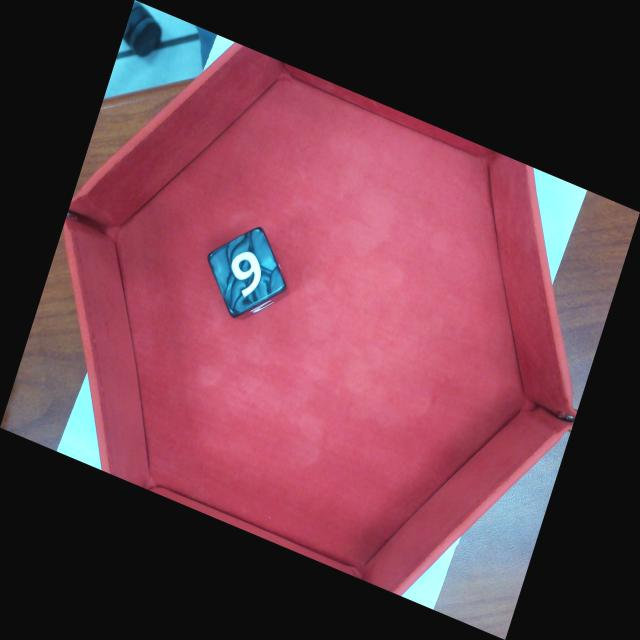dice: (206, 224, 289, 320)
